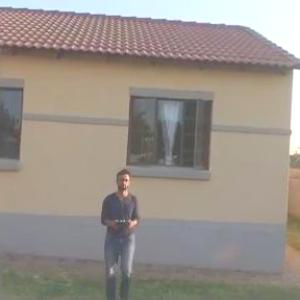follow: (96, 170, 147, 299)
